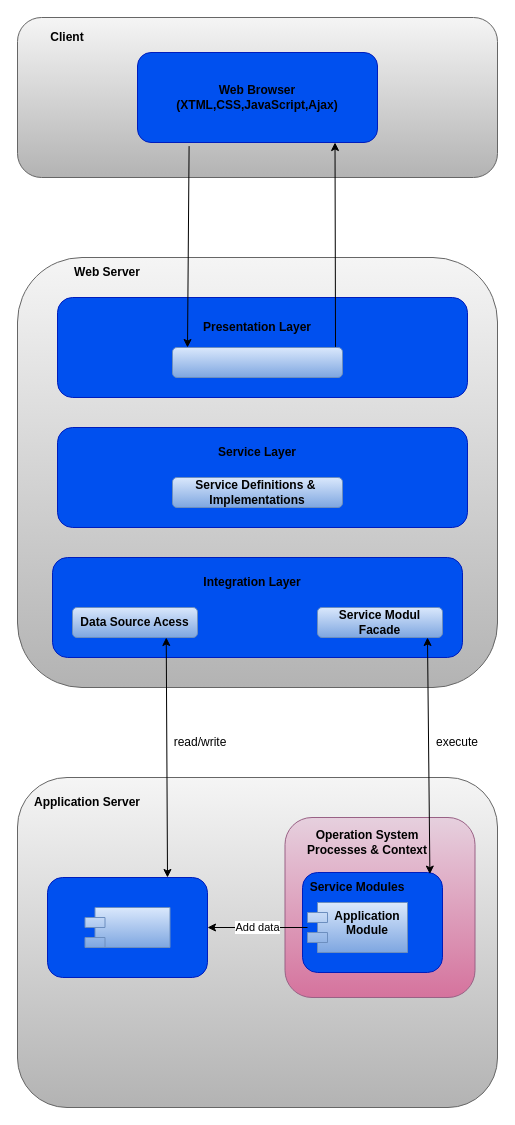
Image size: 515x1125. Some labels were removed from this diagram. The shapes that lost their labels are listed below. From the top down, each one's centre as x and y in pixels, then its label:
At (257,362): "Wicket Components".
At (127,927): "Database".
